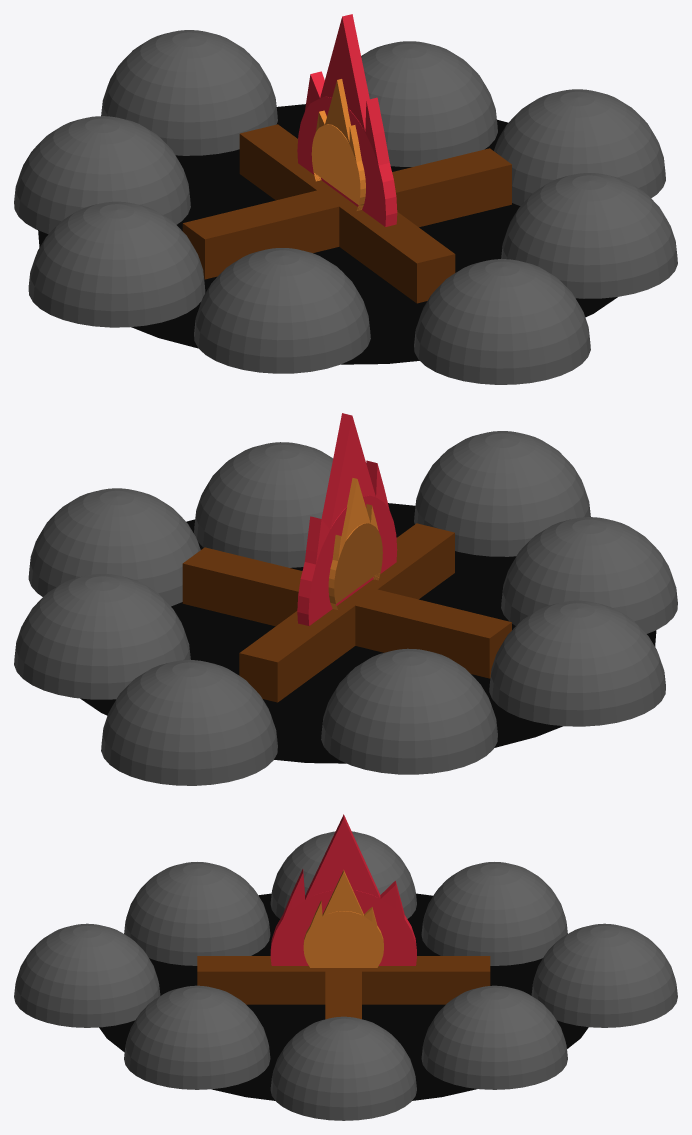
Rendered from Campfire.fbx.
The picture shows the model from 3 angles, top to bottom: view 1: azimuth 30°, elevation 25°; view 2: azimuth 150°, elevation 25°; view 3: azimuth 270°, elevation 25°; orthographic projection. The views are drawn at different scales.
Parts seen in each view (by area): view 1: Rocks, Wood, Circle, Fire Red, Fire Orange; view 2: Rocks, Wood, Circle, Fire Red, Fire Orange; view 3: Rocks, Wood, Circle, Fire Red, Fire Orange.
Boxes of the visible parts, bbox=[...] form: Rocks: bbox=[14, 30, 677, 384]; Wood: bbox=[182, 124, 511, 303]; Circle: bbox=[38, 104, 617, 364]; Fire Red: bbox=[297, 14, 397, 226]; Fire Orange: bbox=[311, 79, 365, 210]; Rocks: bbox=[14, 431, 677, 785]; Wood: bbox=[182, 523, 511, 702]; Circle: bbox=[80, 503, 656, 763]; Fire Red: bbox=[297, 413, 397, 625]; Fire Orange: bbox=[328, 478, 382, 609]; Rocks: bbox=[14, 831, 677, 1120]; Wood: bbox=[197, 956, 490, 1019]; Circle: bbox=[99, 893, 588, 1100]; Fire Red: bbox=[270, 814, 416, 965]; Fire Orange: bbox=[303, 870, 383, 967].
Bounding box in the file's own units: 800 × 272 × 906.
